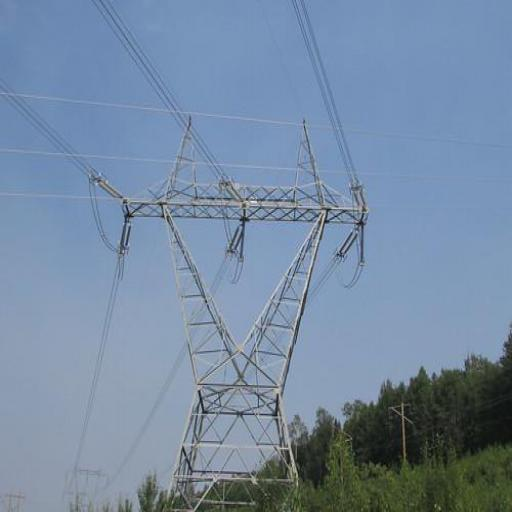wt_6: (120, 116, 368, 511)
